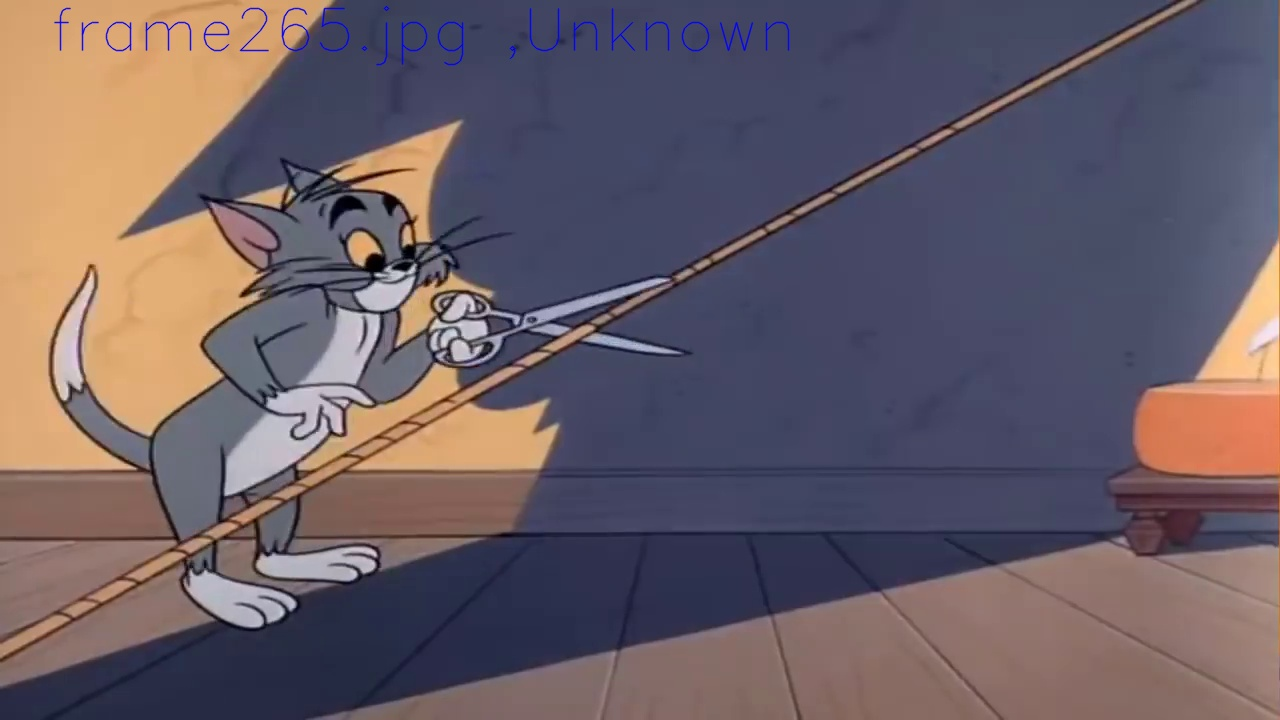happy: (331, 197, 418, 313)
